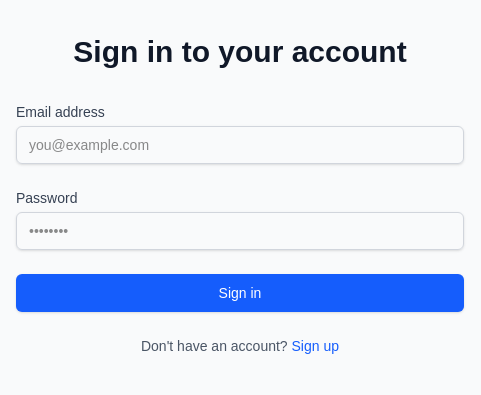
Test: Login Page - Form Validation › should display validation error when email field is empty
Click the button "Sign in" at {"x": 240, "y": 293}, box [16,274,464,312]
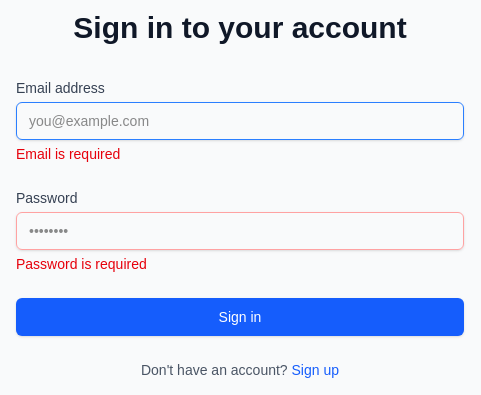
Now the text "Email is required" is shown, box [16,146,120,162]
